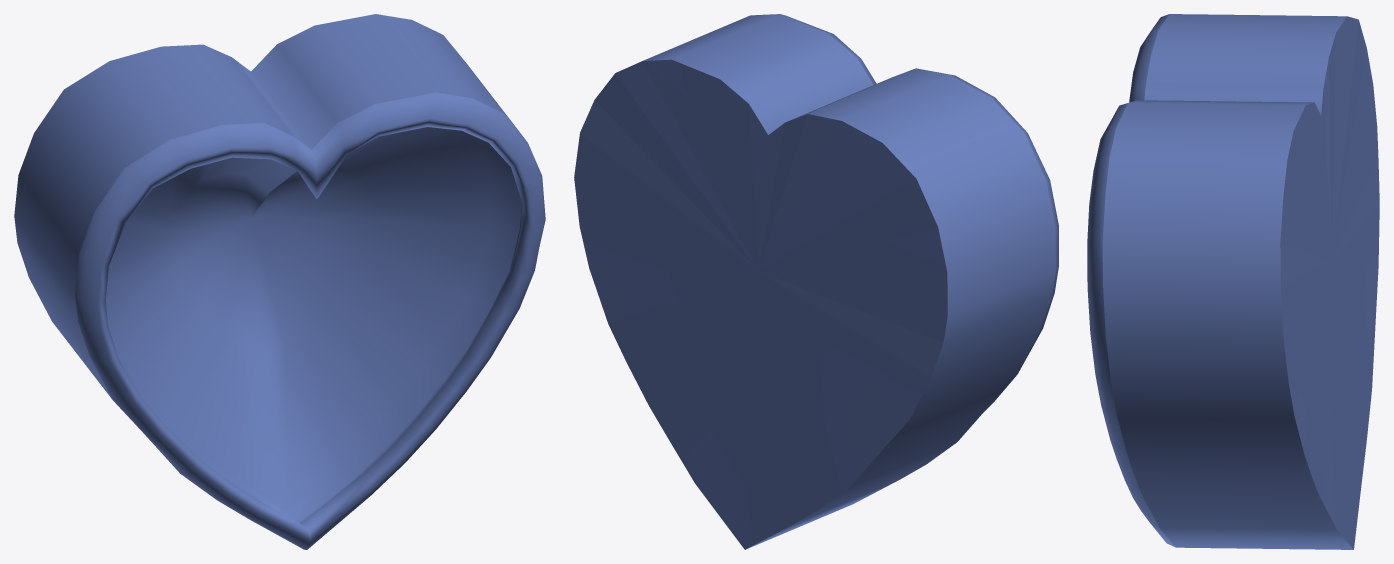
Rendered from TL1_8shapes_heart_Classic_Metal.001 2.glb.
3 renders of one model, left to right at view 1: azimuth 30°, elevation 25°; view 2: azimuth 150°, elevation 25°; view 3: azimuth 270°, elevation 25°, orthographic. The views are drawn at different scales.
Visible parts, largest first — view 1: TL1_8shapes_heart_Classic_Metal.001; view 2: TL1_8shapes_heart_Classic_Metal.001; view 3: TL1_8shapes_heart_Classic_Metal.001.
Boxes of the visible parts, bbox=[...] form: TL1_8shapes_heart_Classic_Metal.001: bbox=[14, 14, 545, 549]; TL1_8shapes_heart_Classic_Metal.001: bbox=[574, 14, 1058, 549]; TL1_8shapes_heart_Classic_Metal.001: bbox=[1087, 14, 1379, 549].
Size of the model in its own units: 0.6427 by 0.6313 by 0.3474.
